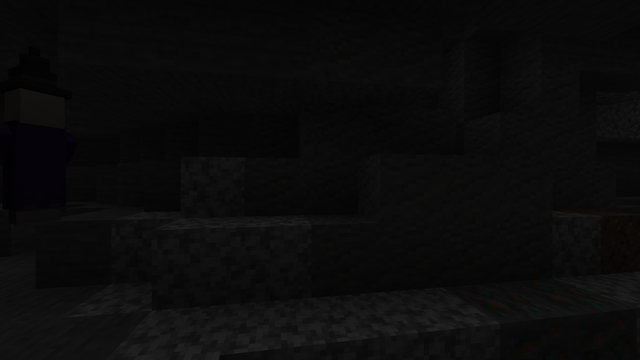sorcieres: (0, 82, 73, 225)
